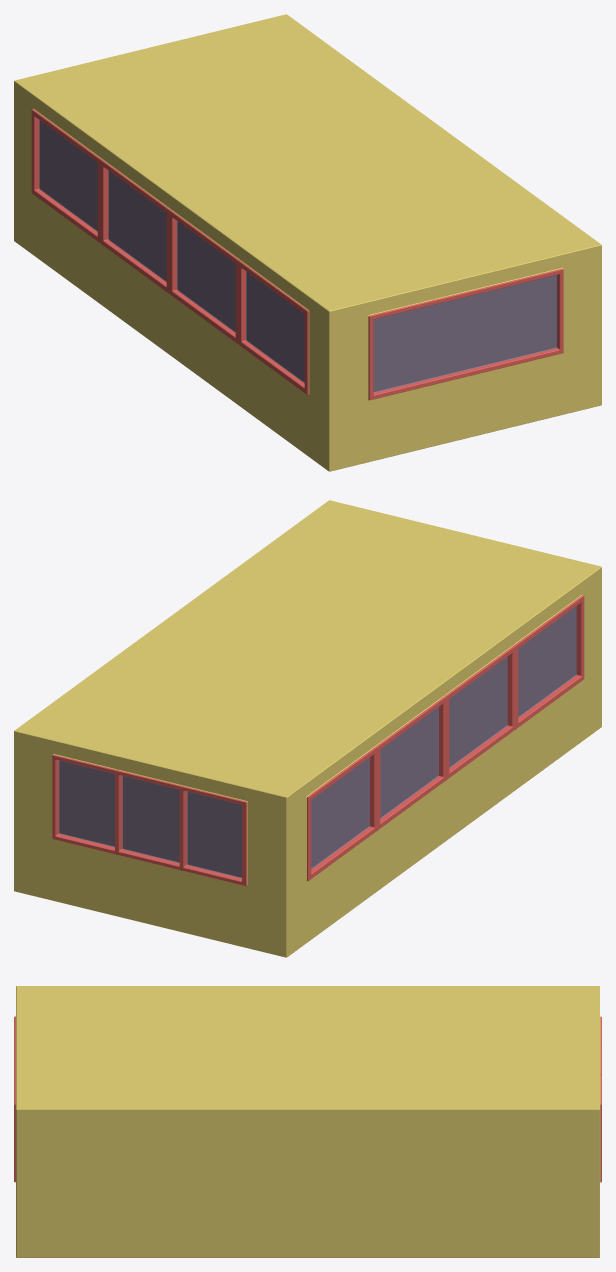
Rendered from BuildingBlock_4_1.fbx.
The picture shows the model from 3 angles, top to bottom: view 1: azimuth 30°, elevation 25°; view 2: azimuth 150°, elevation 25°; view 3: azimuth 270°, elevation 25°; orthographic projection. The views are drawn at different scales.
Visible parts, largest first — view 1: BuildingBlock_4_1; view 2: BuildingBlock_4_1; view 3: BuildingBlock_4_1.
Part boxes in pixels (box(x1,y1,x2,y2)): BuildingBlock_4_1: box(14, 14, 601, 471); BuildingBlock_4_1: box(14, 500, 601, 957); BuildingBlock_4_1: box(14, 986, 601, 1257).
Bounding box in the file's own units: 604 × 338 × 1208.
